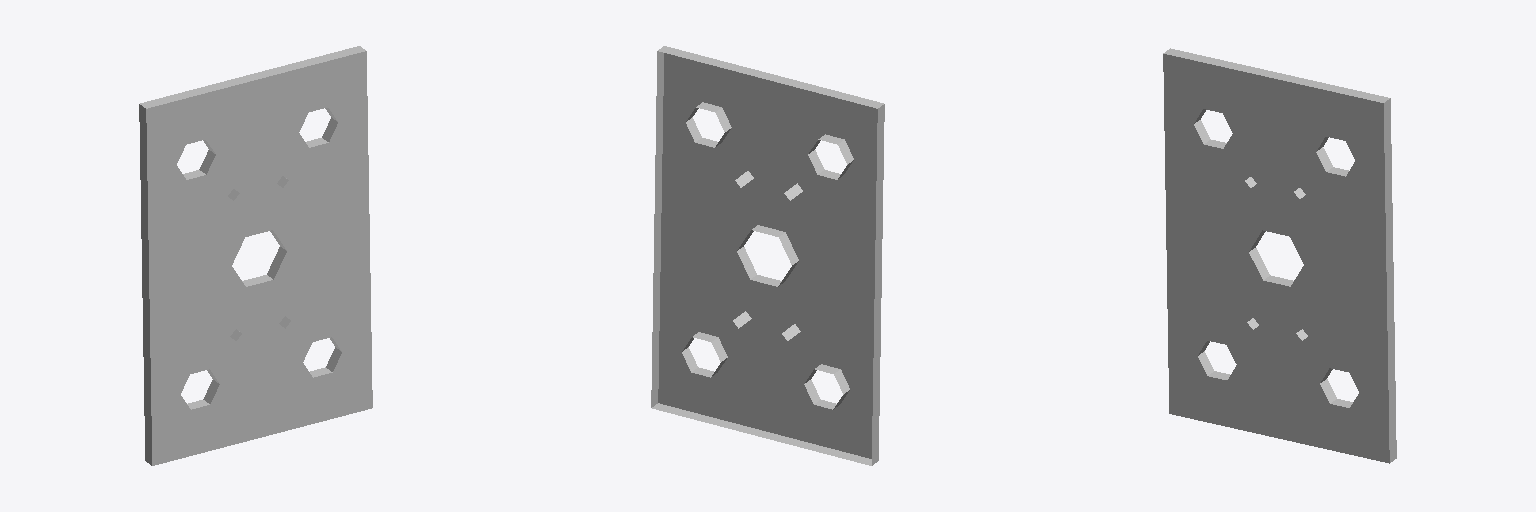
File: armanbindung_2.obj
The picture shows the model from 3 angles: view 1: azimuth 30°, elevation 25°; view 2: azimuth 150°, elevation 25°; view 3: azimuth 330°, elevation 25°; orthographic projection.
Bounding box in the file's own units: 0.037 × 0.0566 × 0.002.